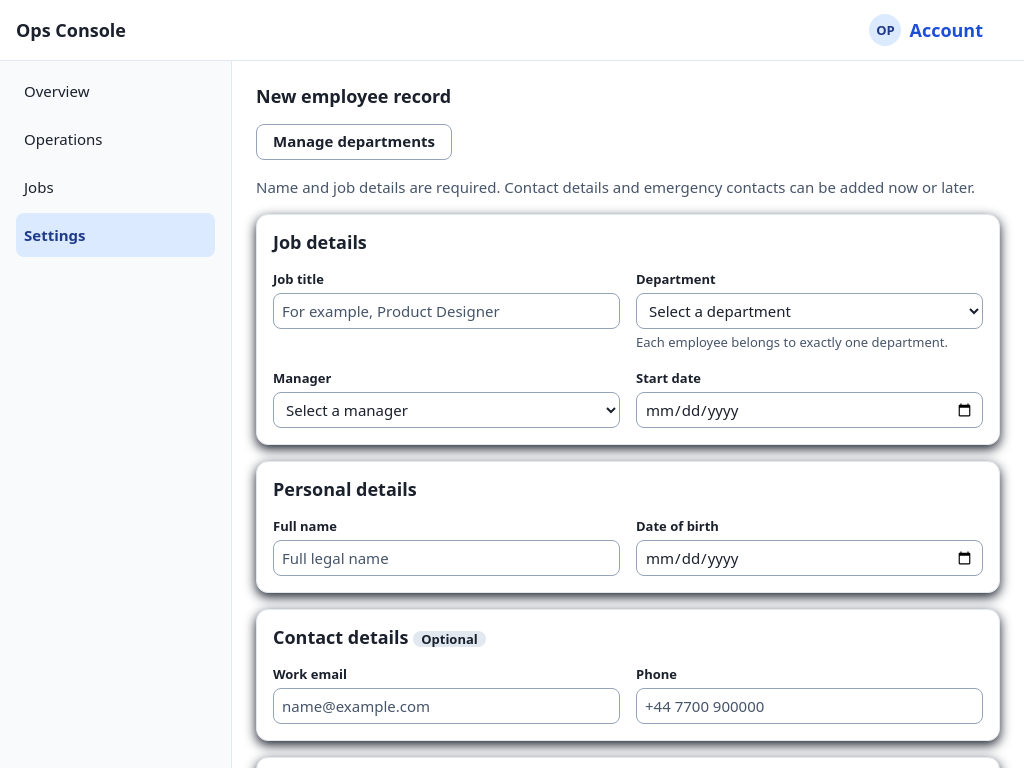
Test: App › moves between the employee record and the departments screen
The width and height of the screenshot is (1024, 768).
Click the button "Manage departments" at {"x": 354, "y": 142}, box [256,124,452,160]
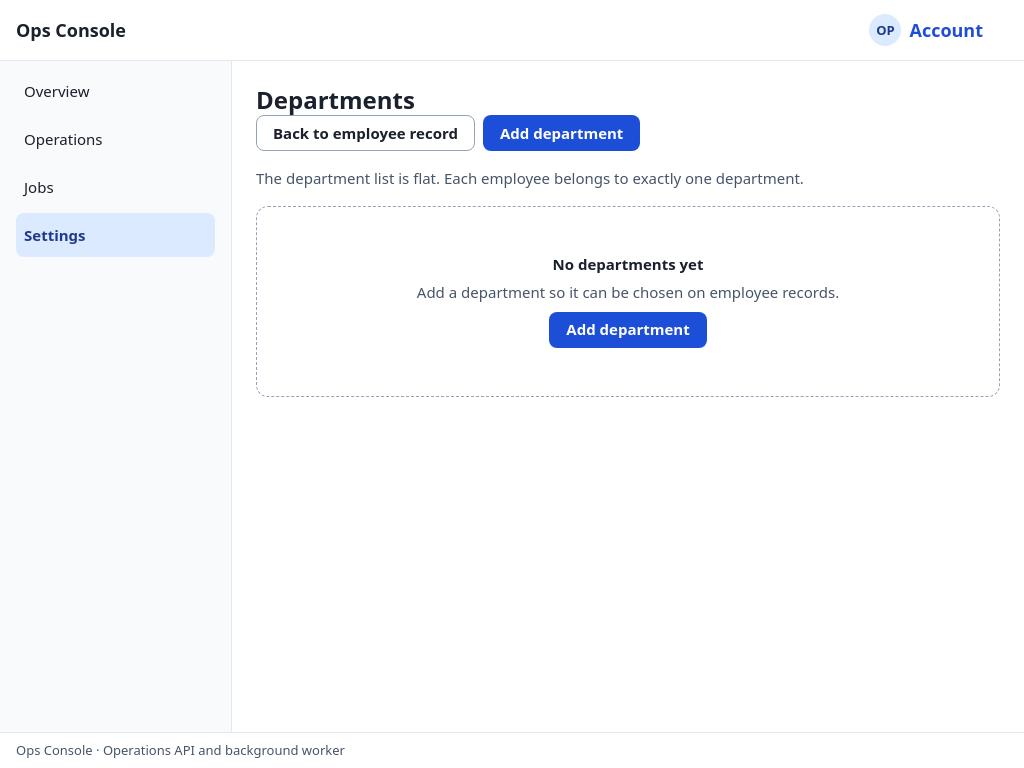
Now the heading "Departments" is shown, box [256,83,415,116]
Click the button "Back to employee record" at {"x": 365, "y": 133}, box [256,115,475,151]
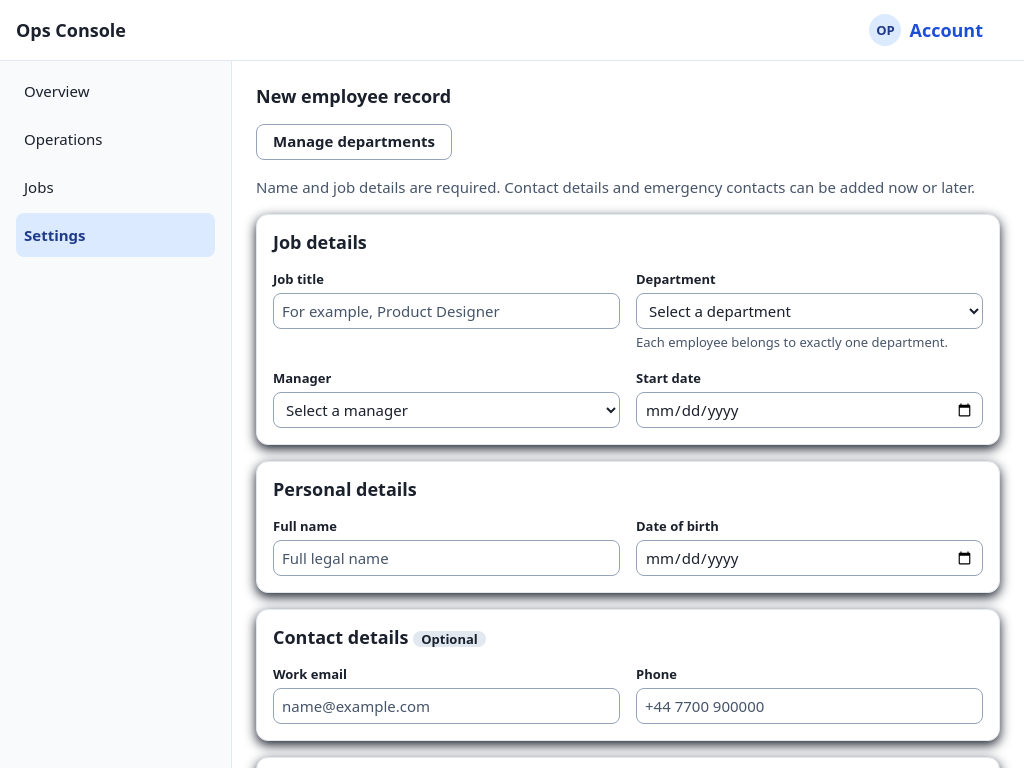
Now the heading "New employee record" is shown, box [256,84,451,108]
